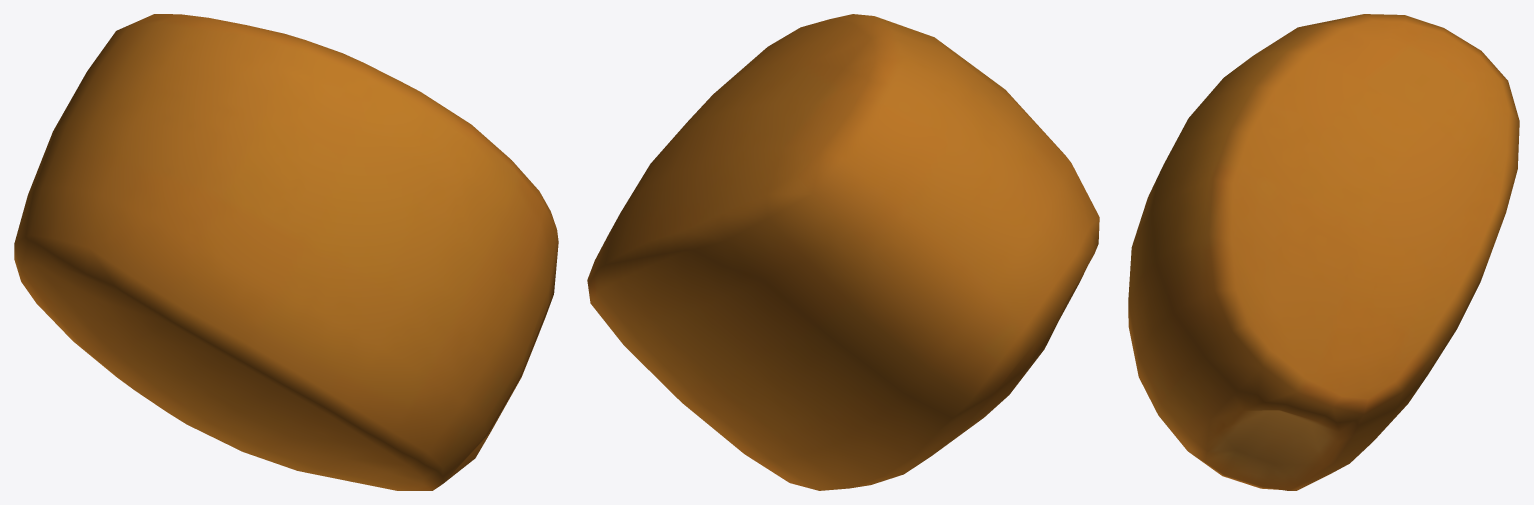
The model's file is BFFriedSteamedBun.obj.
The picture shows the model from 3 angles, left to right: view 1: azimuth 30°, elevation 25°; view 2: azimuth 150°, elevation 25°; view 3: azimuth 270°, elevation 25°; orthographic projection. The views are drawn at different scales.
Parts seen in each view (by area): view 1: jiaohuangxiaomantou; view 2: jiaohuangxiaomantou; view 3: jiaohuangxiaomantou.
Part boxes in pixels (x1=…): jiaohuangxiaomantou: x1=14, y1=14, x2=558, y2=490; jiaohuangxiaomantou: x1=587, y1=14, x2=1099, y2=490; jiaohuangxiaomantou: x1=1128, y1=14, x2=1519, y2=490.
Bounding box in the file's own units: 1.07 × 1 × 0.8641.
